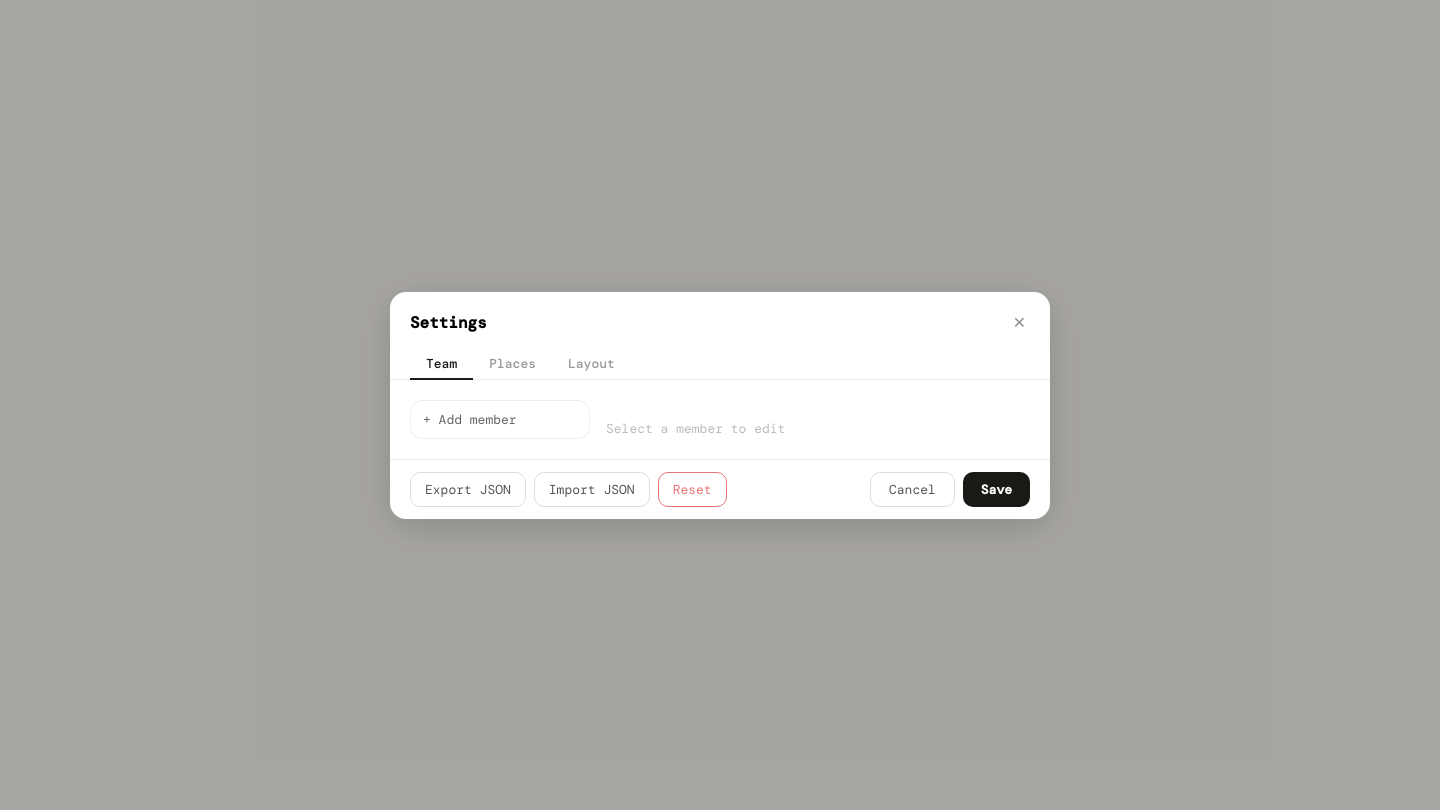
Scenario: ConfigModal › switches to Places tab when clicked
Click the button "Places" at {"x": 513, "y": 364}, box [473, 348, 552, 380]
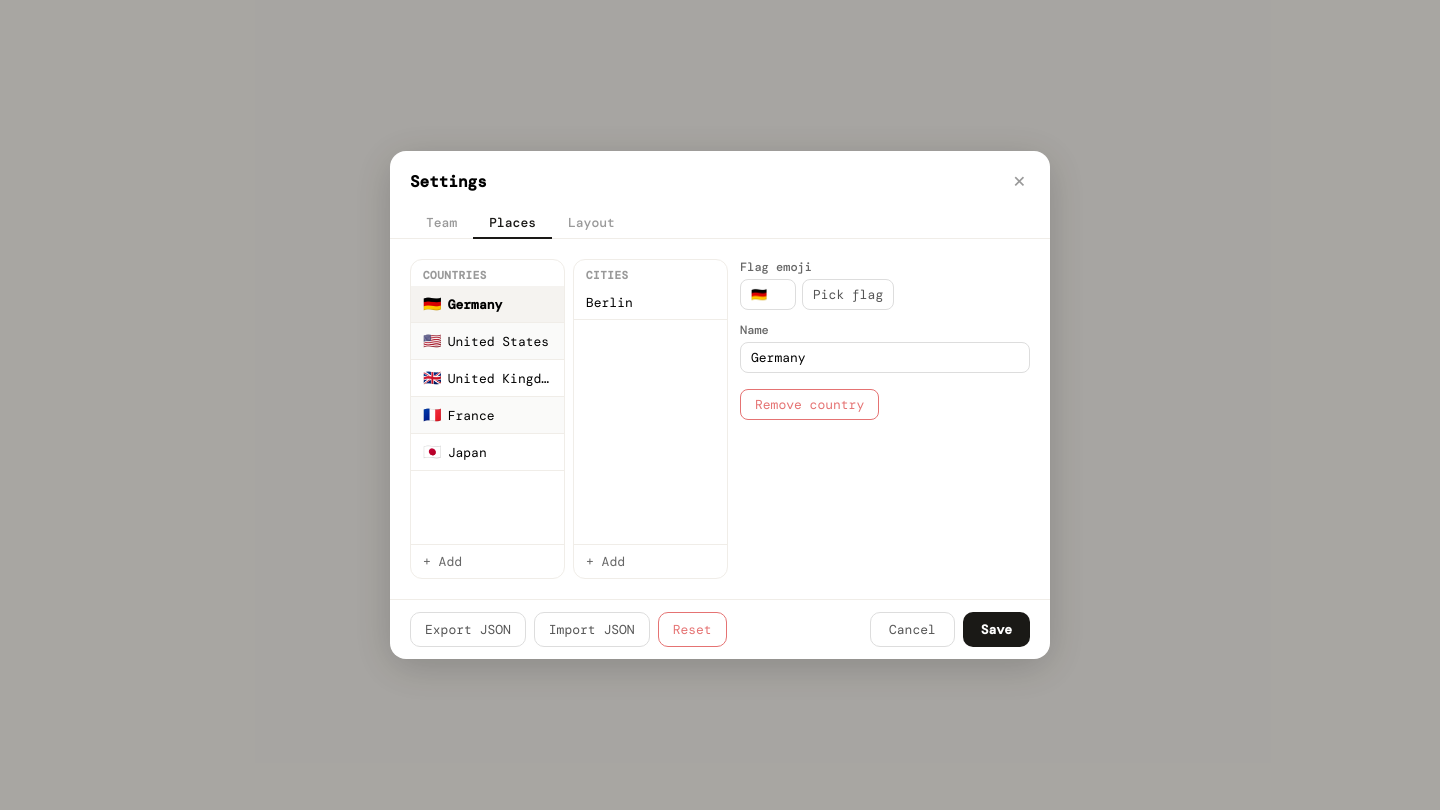
Expected: the text "Countries" is shown, [423, 268, 487, 282]
